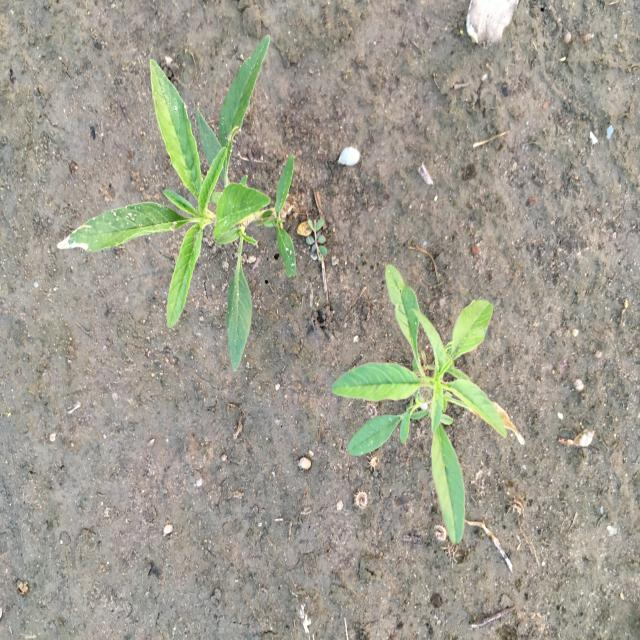SpottedSpurge: (303, 215, 329, 265)
Waterhemp: (56, 34, 298, 372), (329, 262, 526, 546)
